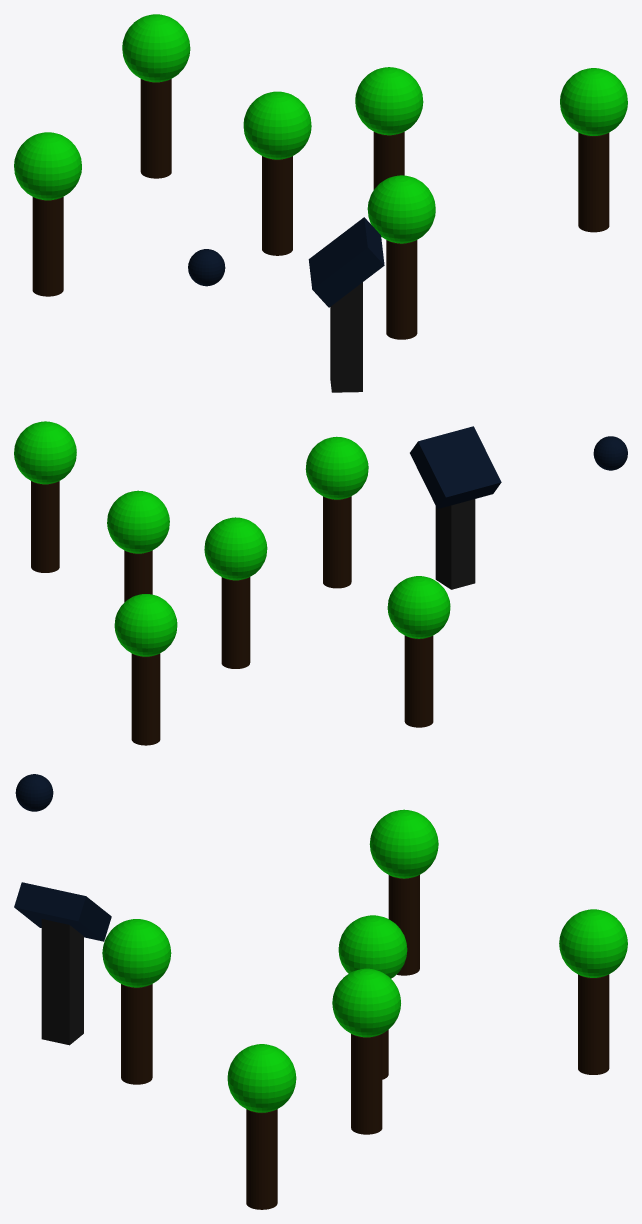
Rendered from exercise20019.obj.
The picture shows the model from 3 angles, top to bottom: view 1: azimuth 30°, elevation 25°; view 2: azimuth 150°, elevation 25°; view 3: azimuth 270°, elevation 25°; orthographic projection. The views are drawn at different scales.
Parts seen in each view (by area): view 1: Cube.001, Sphere.002, Sphere.003, Sphere.005, Sphere, Sphere.006, Sphere.004, Cube, Cylinder.004, Cylinder.006, Cylinder.003, Cylinder.005 (+4 smaller); view 2: Cube.001, Cube, Sphere.003, Sphere.004, Sphere.006, Sphere, Sphere.002, Sphere.005, Cylinder.005, Cylinder.006, Cylinder.002, Cylinder.004 (+4 smaller); view 3: Cube, Sphere, Sphere.003, Sphere.004, Sphere.006, Sphere.005, Sphere.002, Cube.001, Cylinder.003, Cylinder.004, Cylinder.005, Cylinder (+3 smaller).
Part boxes in pixels (box(x1,y1,x2,y2)): Cube.001: box(308, 217, 384, 307); Sphere.002: box(243, 91, 311, 159); Sphere.003: box(560, 68, 627, 135); Sphere.005: box(122, 14, 190, 82); Sphere: box(355, 67, 423, 135); Sphere.006: box(14, 132, 81, 200); Sphere.004: box(367, 175, 435, 243); Cube: box(330, 282, 362, 392); Cylinder.004: box(386, 240, 417, 339); Cylinder.006: box(32, 197, 63, 296); Cylinder.003: box(578, 132, 609, 232); Cylinder.005: box(140, 79, 171, 178); Cube.001: box(410, 426, 501, 509); Cube: box(435, 499, 475, 589); Sphere.003: box(14, 421, 76, 484); Sphere.004: box(305, 436, 368, 499); Sphere.006: box(387, 576, 450, 638); Sphere: box(107, 490, 169, 553); Sphere.002: box(204, 517, 267, 580); Sphere.005: box(114, 594, 177, 656); Cylinder.005: box(131, 653, 160, 745); Cylinder.006: box(404, 635, 433, 727); Cylinder.002: box(221, 577, 250, 668); Cylinder.004: box(323, 496, 351, 588); Cube: box(41, 919, 83, 1045); Sphere: box(332, 968, 400, 1037); Sphere.003: box(227, 1044, 296, 1112); Sphere.004: box(102, 919, 171, 987); Sphere.006: box(369, 809, 438, 878); Sphere.005: box(559, 909, 627, 977); Sphere.002: box(338, 915, 407, 978); Cube.001: box(14, 882, 111, 941); Cylinder.003: box(246, 1109, 277, 1209); Cylinder.004: box(121, 984, 152, 1084); Cylinder.005: box(578, 974, 609, 1074); Cylinder: box(351, 1034, 382, 1134).
Size of what is drawn, in the model's own units: 40.53 by 12.99 by 39.13.
